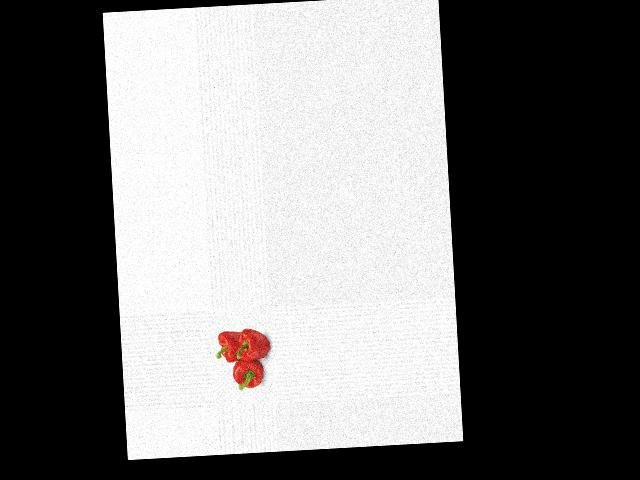bell_pepper: (228, 354, 267, 392)
